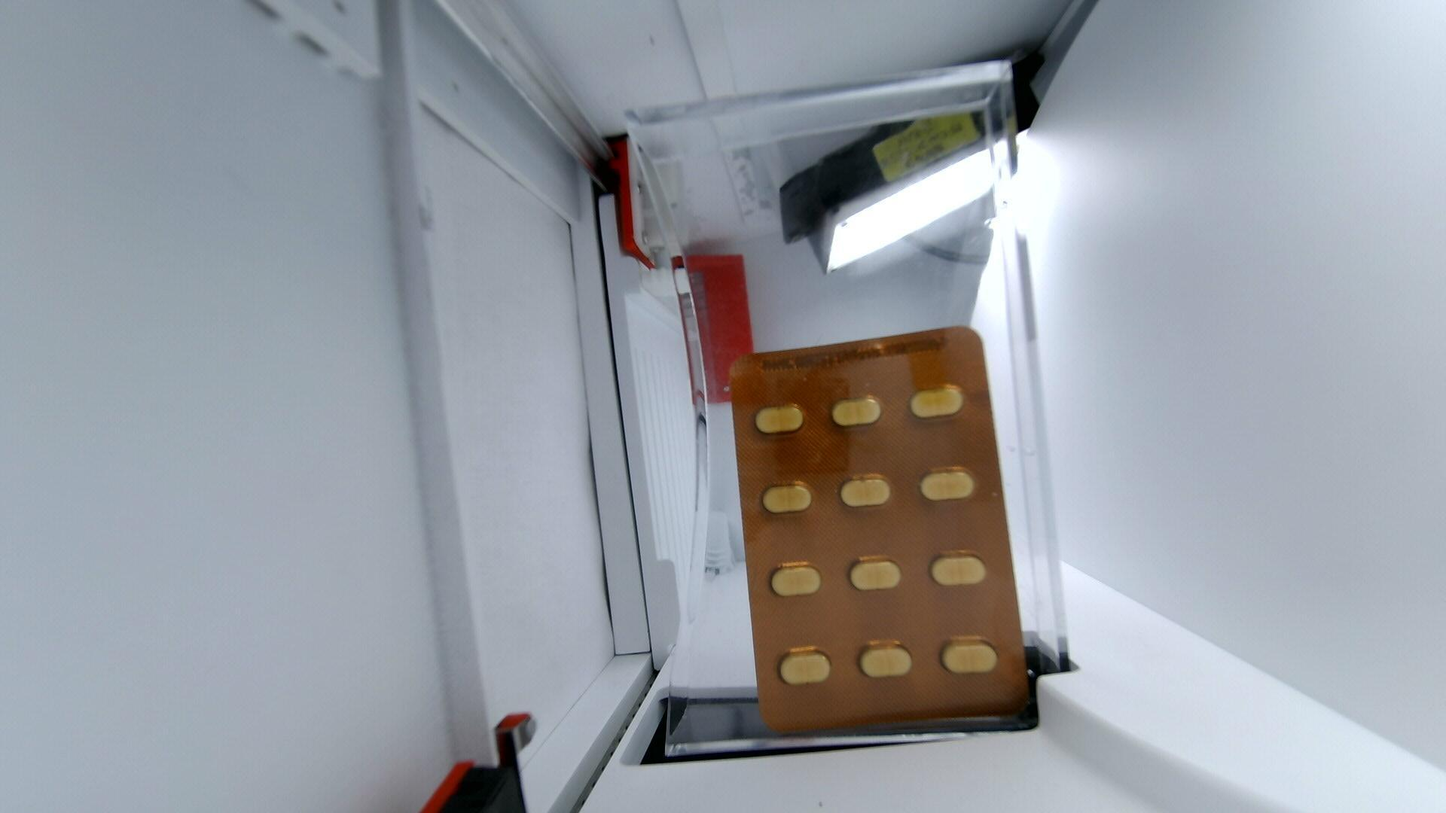Light Front: (734, 327, 1032, 733)
Pill Front: (854, 641, 917, 679), (776, 647, 834, 684), (938, 638, 997, 674), (929, 550, 987, 586), (920, 466, 975, 501), (911, 384, 965, 419), (848, 556, 902, 591), (769, 562, 821, 596), (839, 473, 890, 507), (761, 481, 812, 514), (831, 395, 881, 427), (755, 404, 804, 434)
